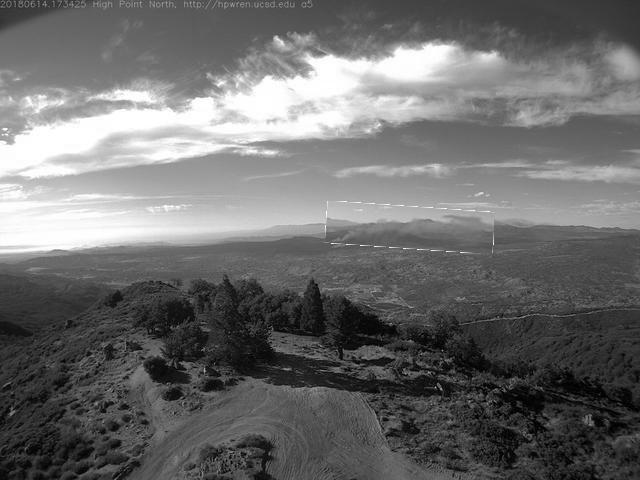smoke: (327, 205, 496, 253)
